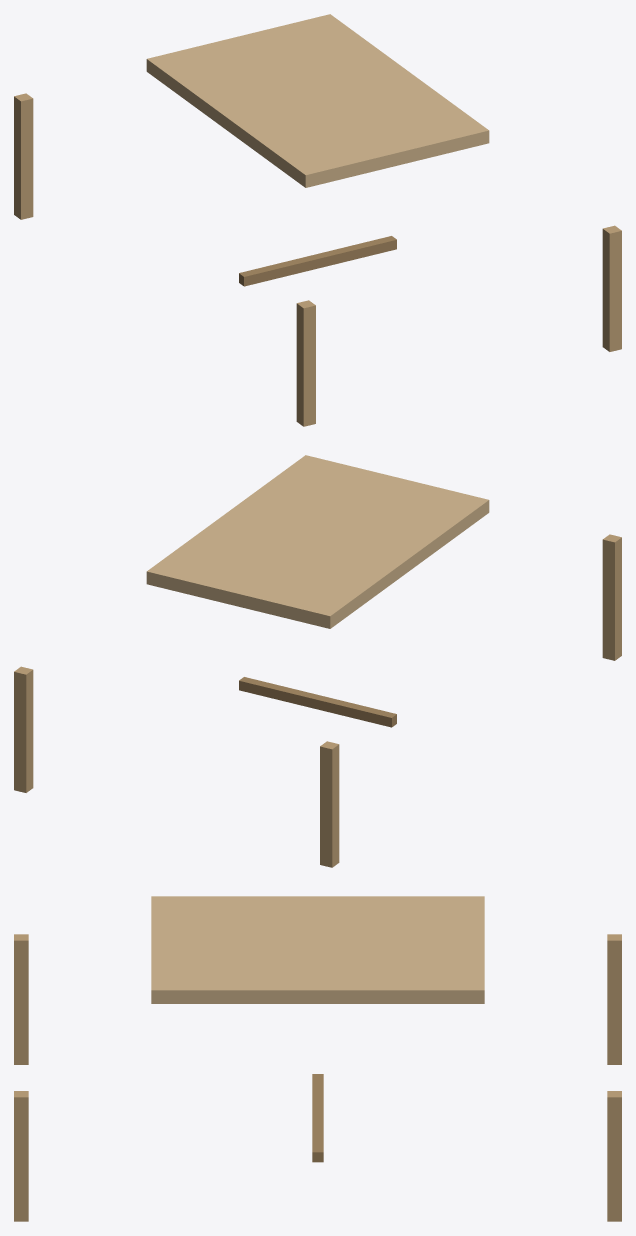
The model's file is Table_1.glb.
3 views of the same model, one above another, from view 1: azimuth 30°, elevation 25°; view 2: azimuth 150°, elevation 25°; view 3: azimuth 270°, elevation 25° (orthographic). The views are drawn at different scales.
Visible parts, largest first — view 1: Table_1; view 2: Table_1; view 3: Table_1.
Part boxes in pixels (x1,y1,x2,y2): Table_1: [14, 14, 621, 426]; Table_1: [14, 455, 621, 867]; Table_1: [14, 896, 621, 1221].
Size of the model in its own units: 1.04 by 0.585 by 1.64.
